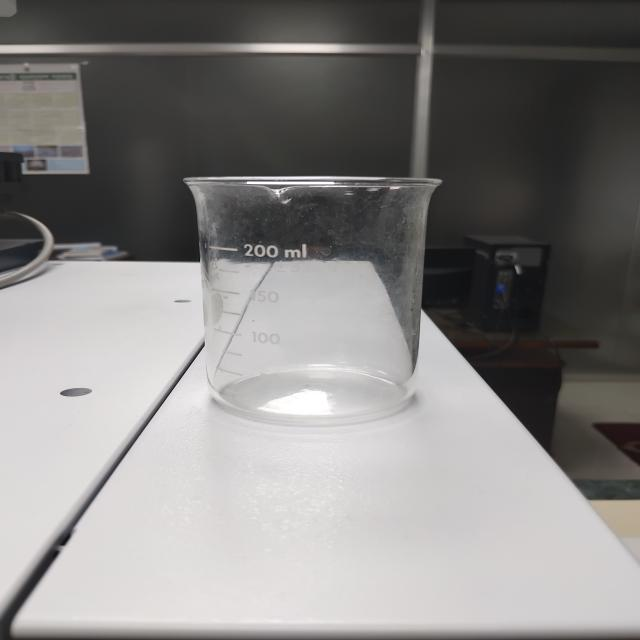Beaker: (142, 142, 480, 442)
